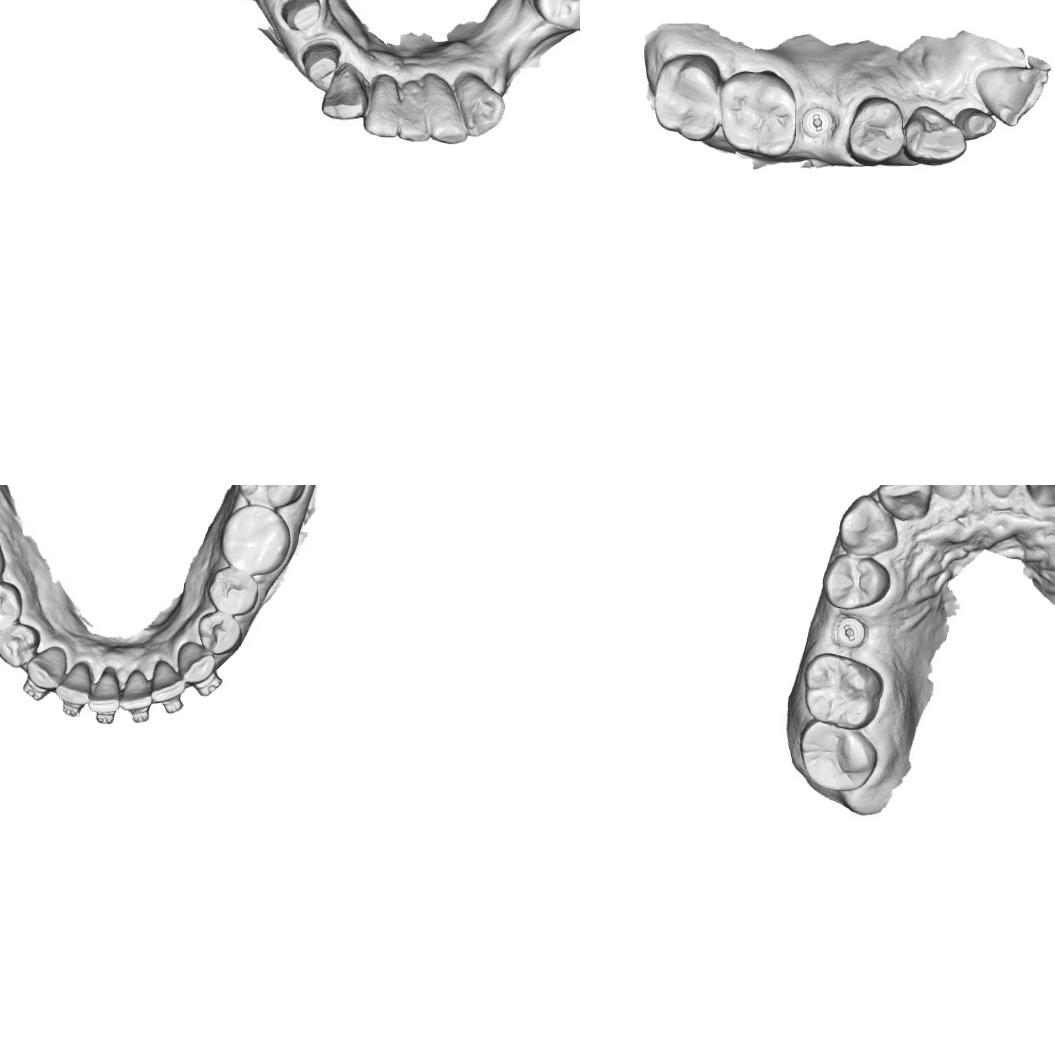canine: (904, 102, 970, 168), (836, 494, 900, 558), (319, 60, 372, 126), (459, 68, 504, 138), (23, 644, 68, 691), (175, 639, 218, 686)
crown: (298, 37, 344, 89), (276, 0, 325, 38), (955, 102, 996, 143)
implant_minus: (800, 104, 835, 142), (833, 613, 868, 649)
incisor: (972, 60, 1050, 128), (429, 72, 466, 147), (876, 485, 933, 522), (400, 73, 429, 143), (367, 73, 401, 132), (53, 658, 94, 706), (148, 658, 188, 704), (86, 666, 122, 716), (119, 666, 153, 712), (913, 485, 974, 502), (971, 485, 1033, 499), (1024, 485, 1055, 509)
molar: (716, 68, 800, 158), (650, 51, 724, 143), (801, 650, 884, 729), (796, 718, 880, 792), (216, 502, 291, 576), (235, 485, 308, 510), (530, 0, 580, 31)
premolar: (845, 92, 907, 168), (820, 552, 892, 611), (204, 566, 261, 618), (195, 609, 244, 657), (0, 621, 40, 668), (0, 580, 24, 633)
